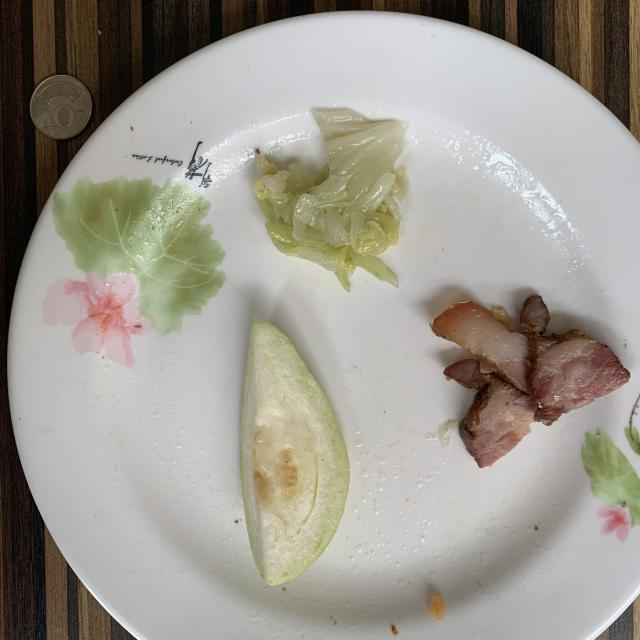cabbage: (254, 109, 405, 291)
coin: (30, 75, 92, 140)
grilled pork: (431, 295, 630, 468)
guava -sliced-: (240, 319, 350, 585)
